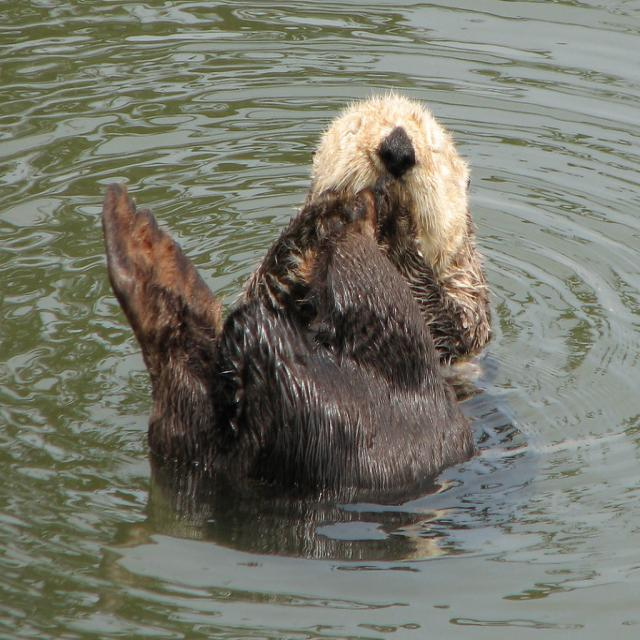otter: (103, 93, 491, 491)
